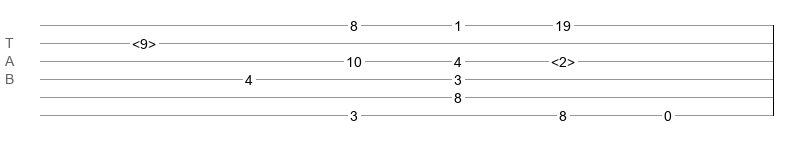0: (664, 108, 672, 118)
1: (454, 18, 462, 28)
10: (346, 54, 362, 64)
19: (555, 18, 571, 28)
3: (350, 108, 358, 118), (454, 72, 462, 82)
4: (245, 72, 253, 82), (454, 54, 462, 64)
8: (350, 18, 358, 28), (454, 90, 462, 100), (559, 108, 567, 118)
harmonic: (132, 36, 156, 46), (551, 54, 575, 64)
